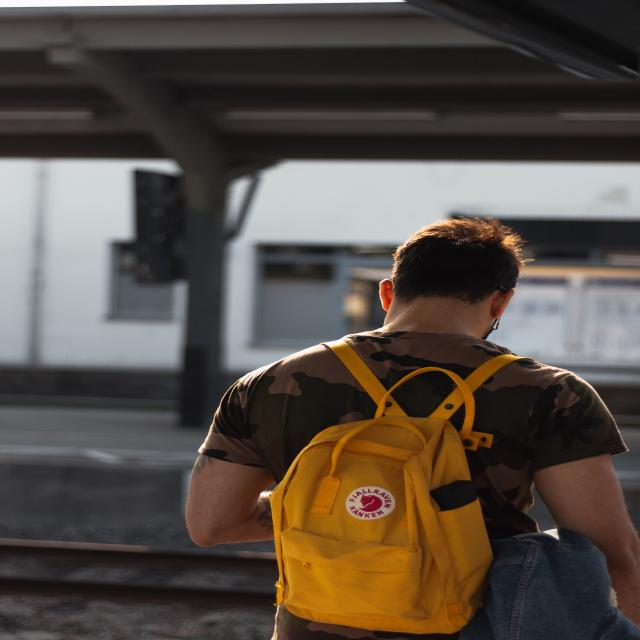backpack: (262, 338, 528, 632)
